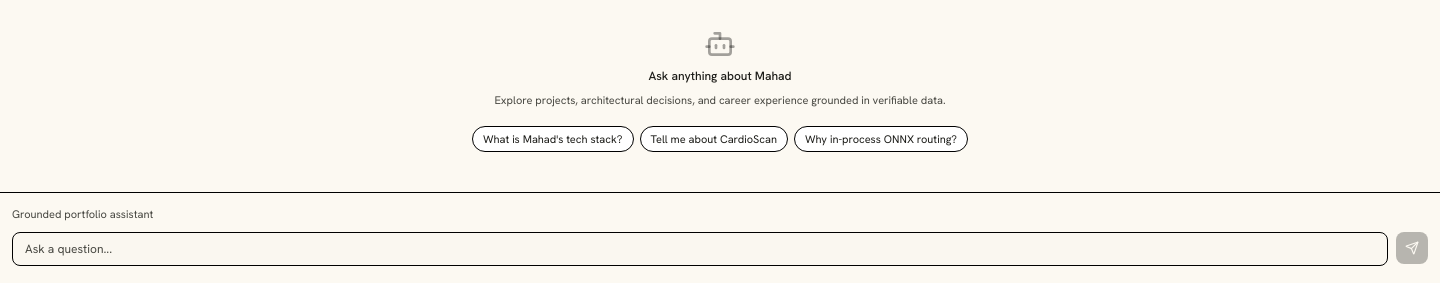
Test: CompactChatTab (Milestone 13P.8) › handles streaming error gracefully
Type "Error test" into the field with placeholder "Ask a question..." at (700,249), box 12,232 -> 1388,266
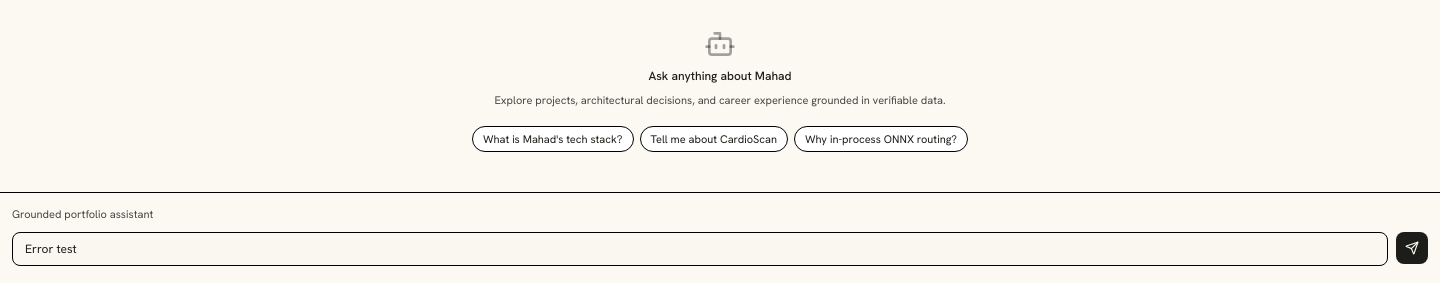
Click the button titled "Send message" at (1412,248), box 1396,232 -> 1428,264
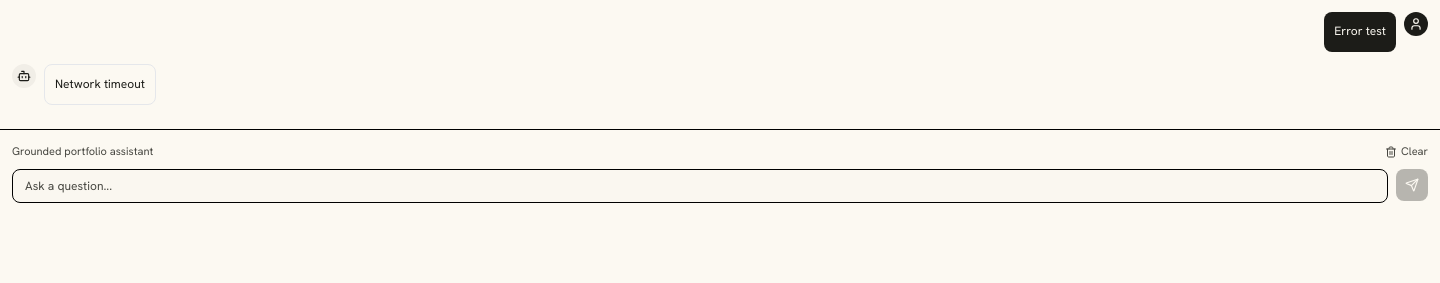
Check: the text "Network timeout" is shown, box 55,74 -> 145,94
